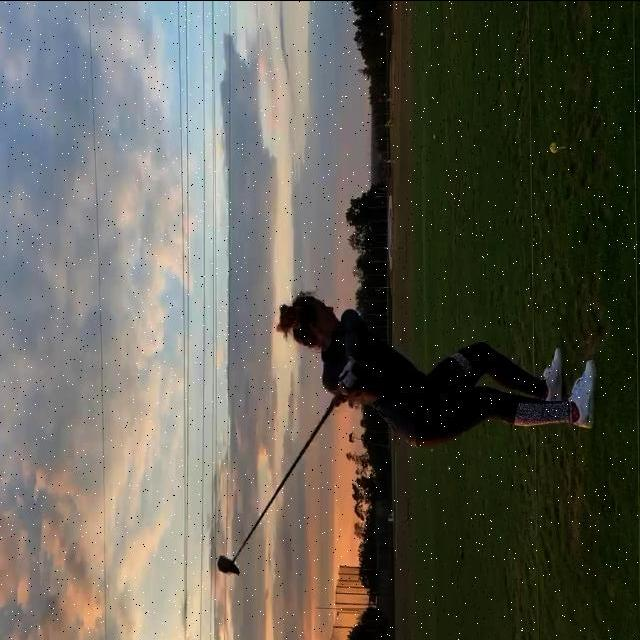golf ball: (550, 141, 559, 152)
golf club-handle: (218, 362, 362, 572)
golf club-head: (218, 552, 241, 572)
